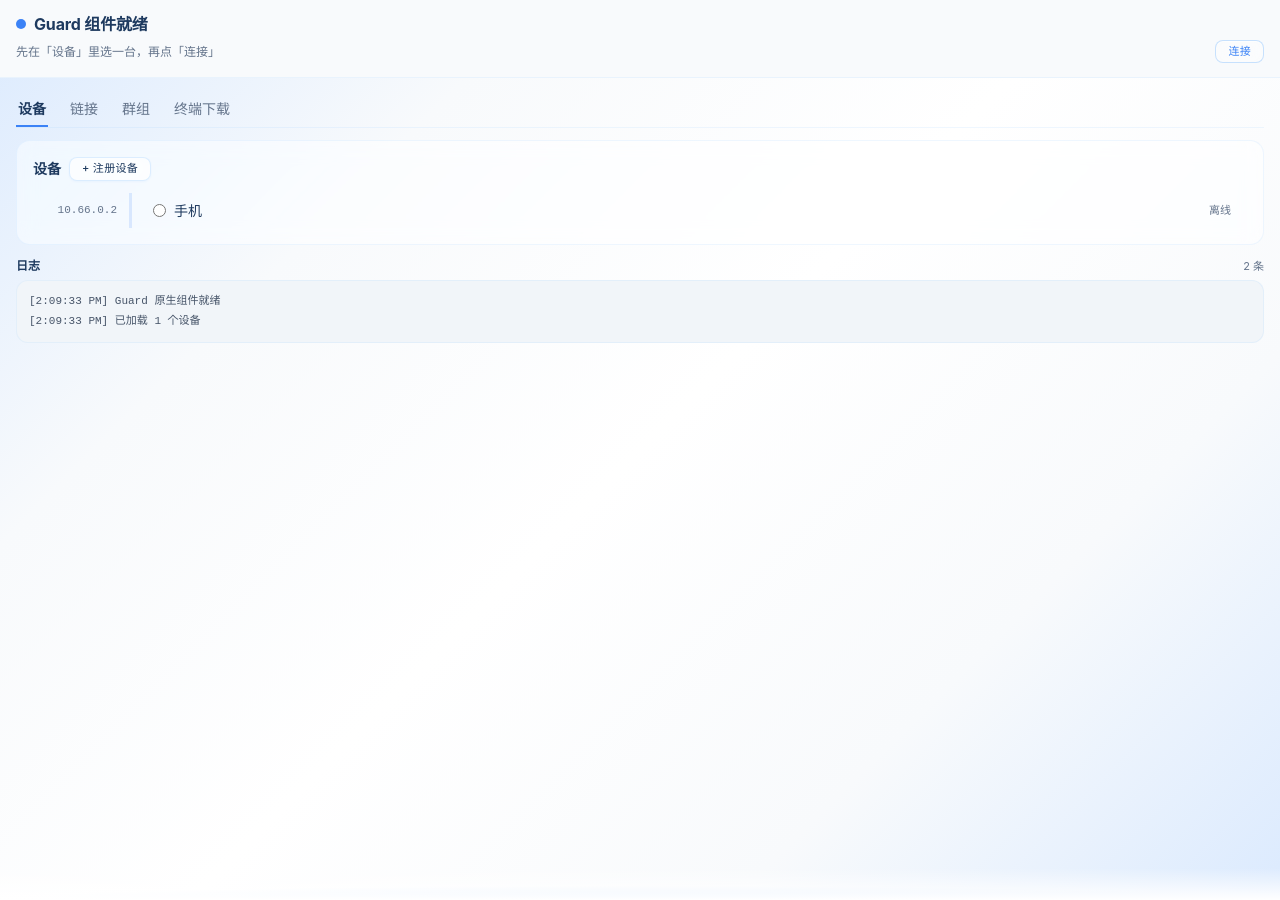
it: HuanvaeGuardPage (Android) — 连接/断开全链 › startTunnel 拒绝：reject 前缀映射的人话文案进错误横幅
Click the radio button at coordinates (160, 210), box 153,204 -> 166,217
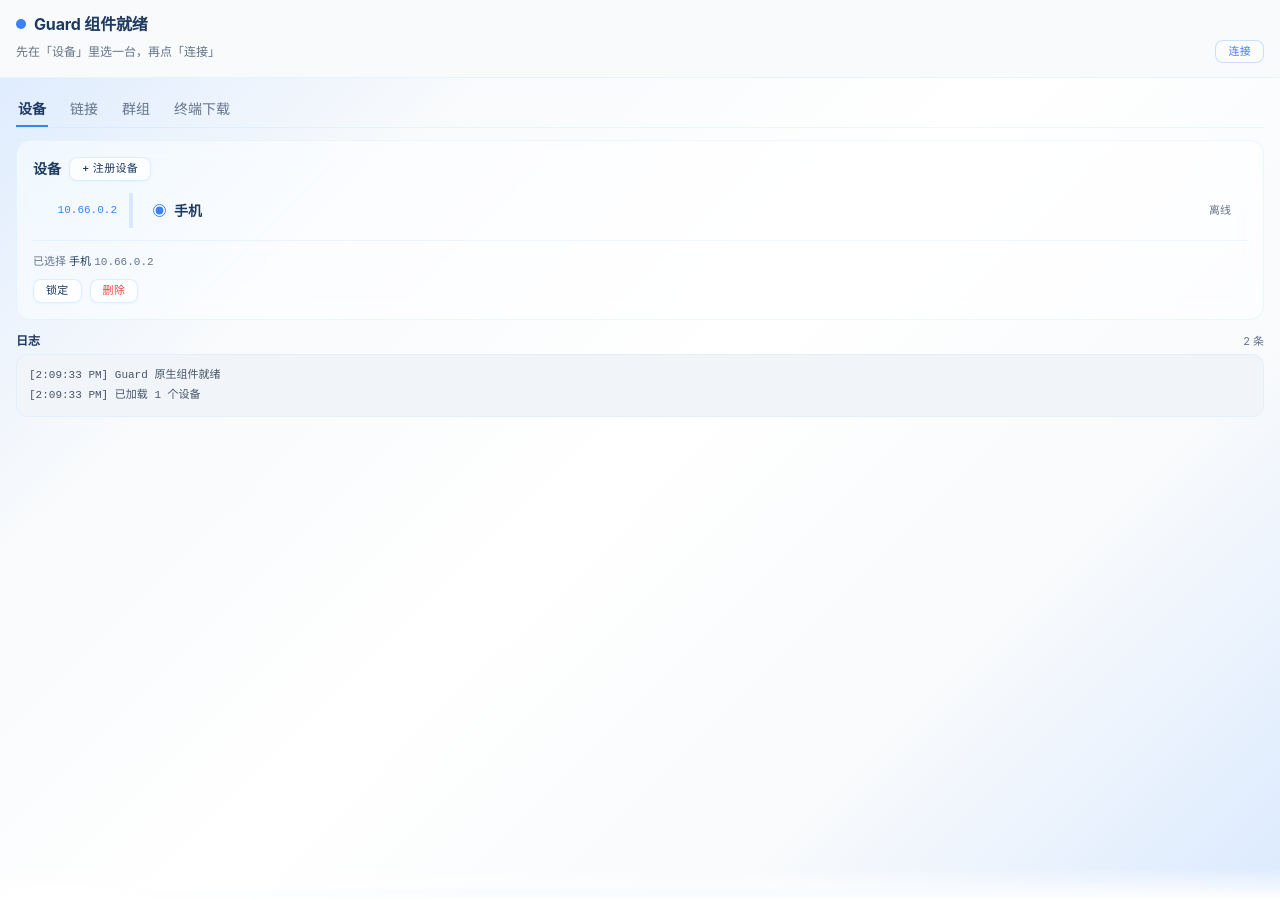
Click the button "连接" at coordinates (1240, 52), box 1215,40 -> 1264,63
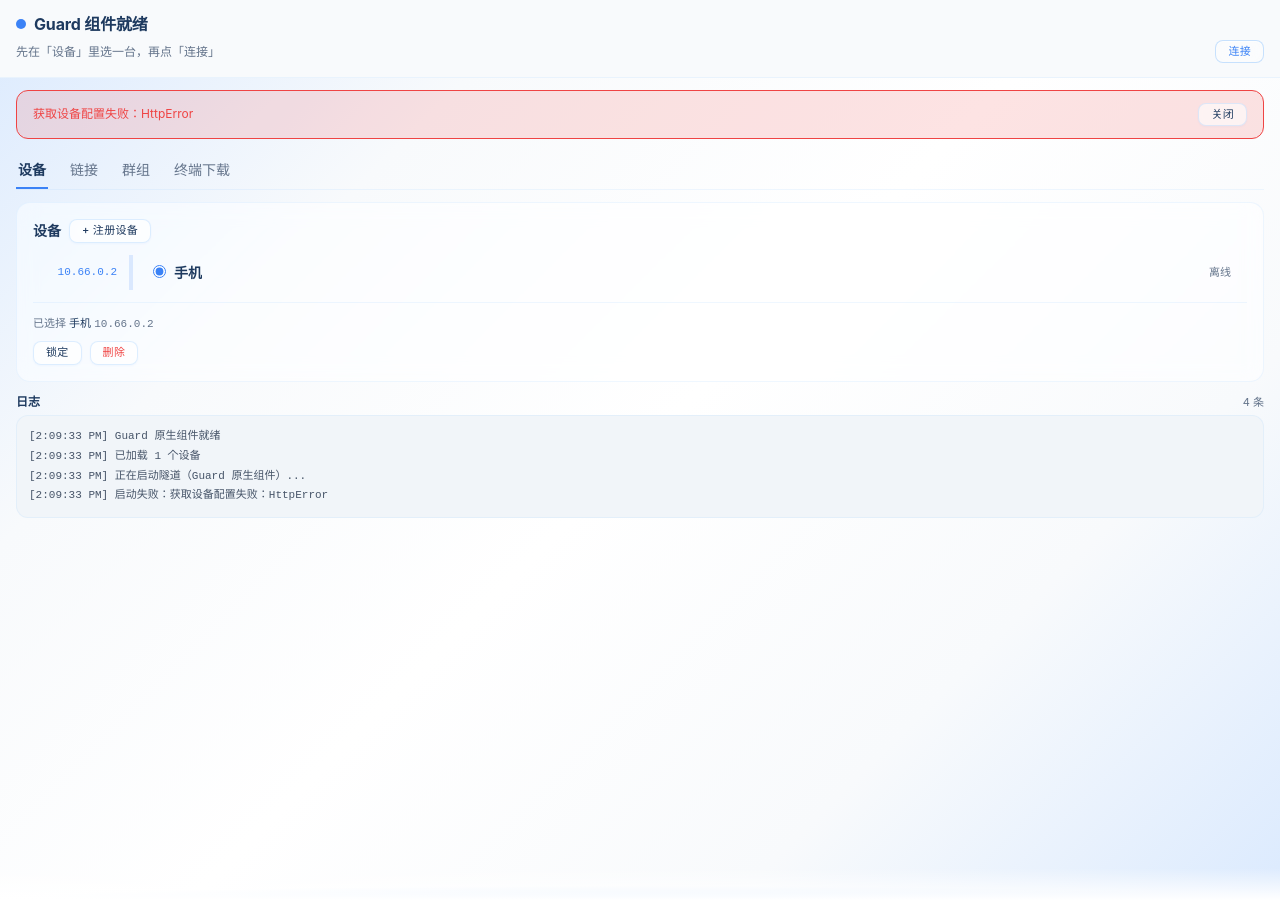
Now the text "获取设备配置失败：HttpError" is shown, box 33,106 -> 193,121
